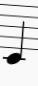note: (2, 2, 27, 67)
